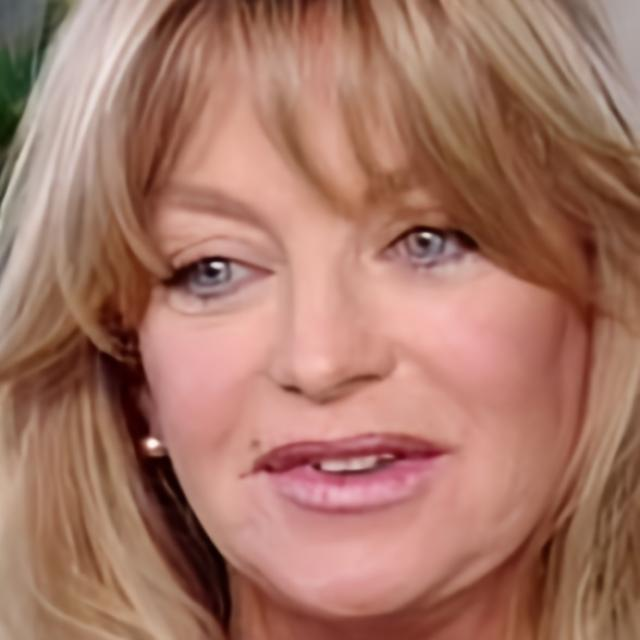disgust: (135, 45, 590, 620)
